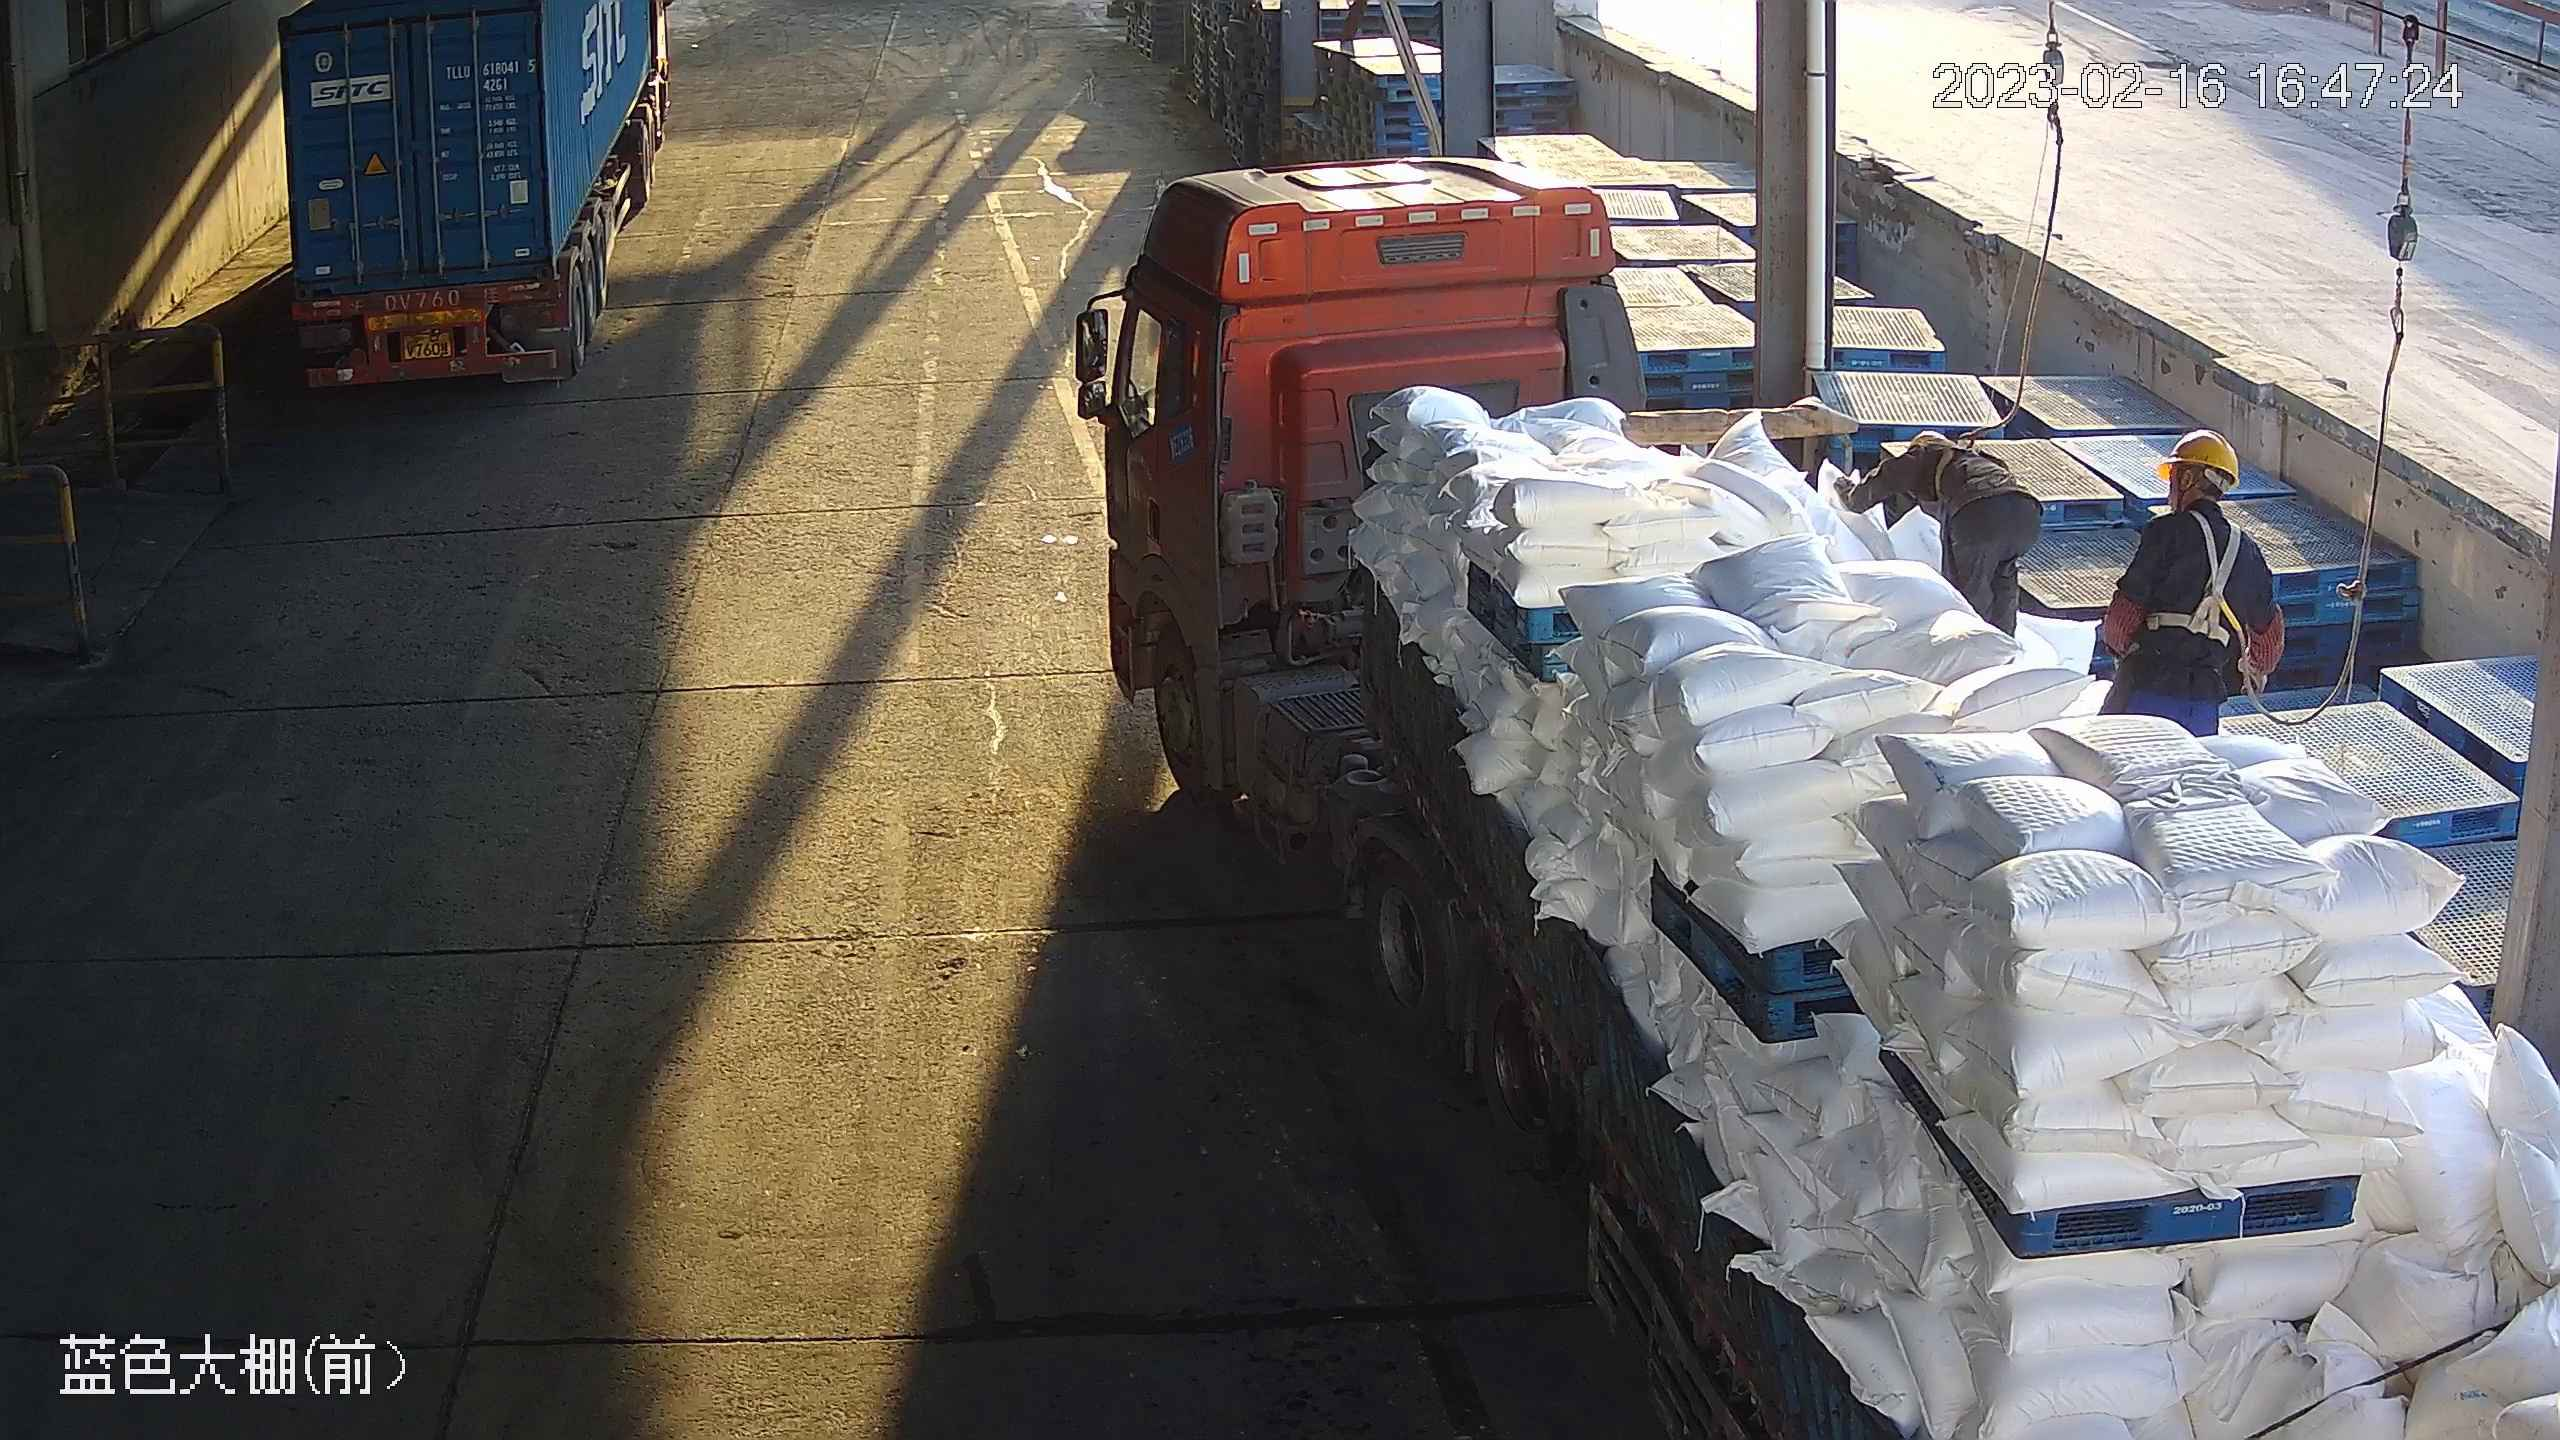belt: (2143, 509, 2244, 648), (1923, 427, 2009, 500)
head: (2129, 428, 2267, 580)
helmet: (2154, 428, 2239, 491)
people: (2096, 427, 2286, 739), (1831, 430, 2045, 638)
truck: (1070, 149, 2560, 1440), (275, 1, 673, 393)
